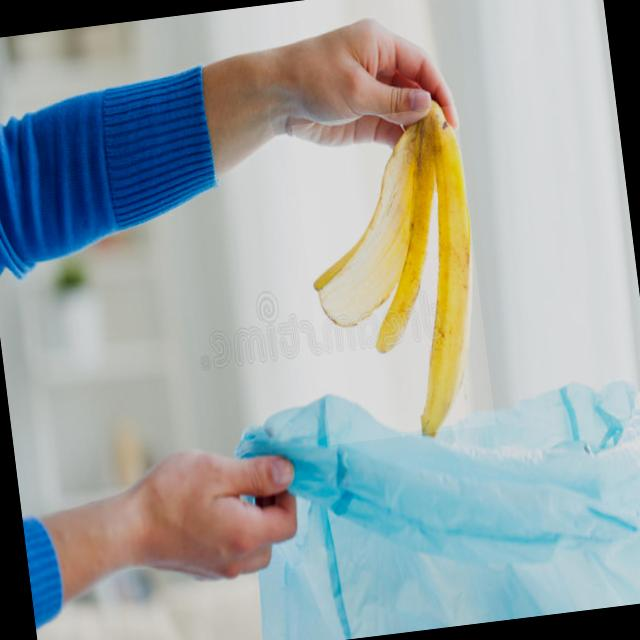Food waste: (291, 106, 495, 446)
